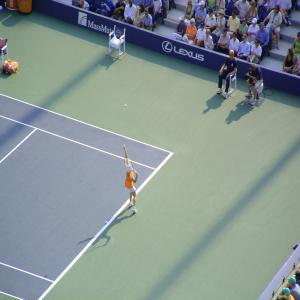TennisBall: (125, 105, 128, 108)
